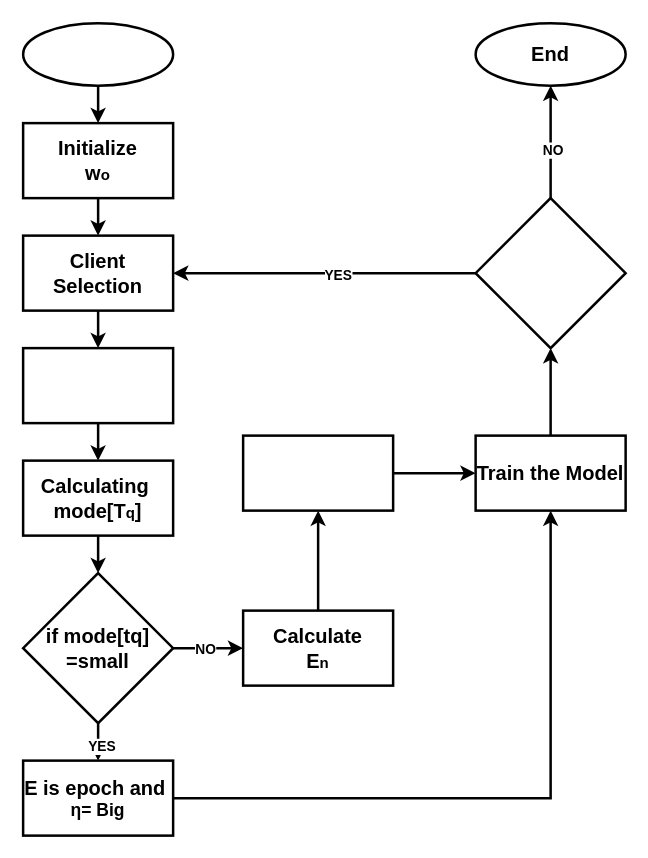
Some shapes in this 648 by 858 pixel diagram are drawn without their labels. The box of each missing label's shape, as (x1, y1, x2, y2) in pixels:
Calculating T q: (21, 346, 174, 424)
E n is epoch and η= Small: (241, 434, 394, 511)
if rounds(t) left: (474, 196, 626, 349)
Start: (21, 21, 174, 86)
